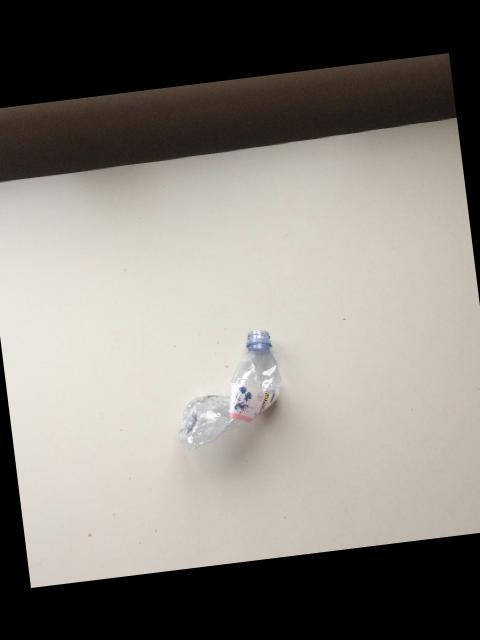plastic: (179, 330, 281, 450)
